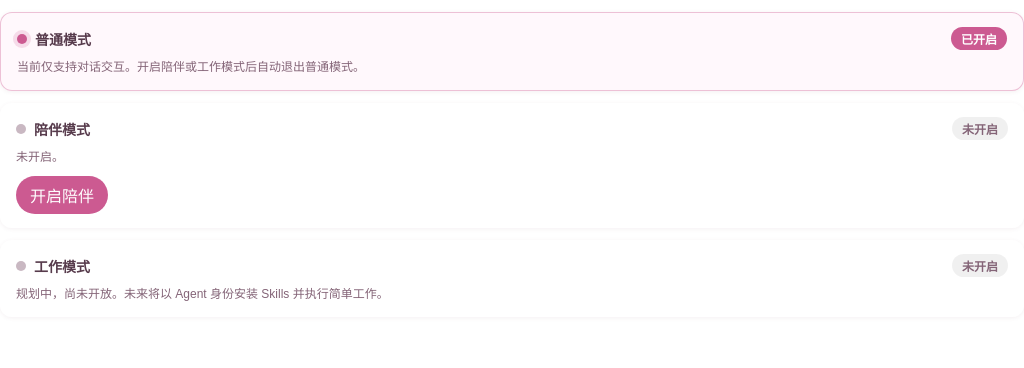
Test: ModeStatus › shows the block reason when enabling is denied
Click the button "开启陪伴".
click(62, 195)  # box [16,176,108,214]
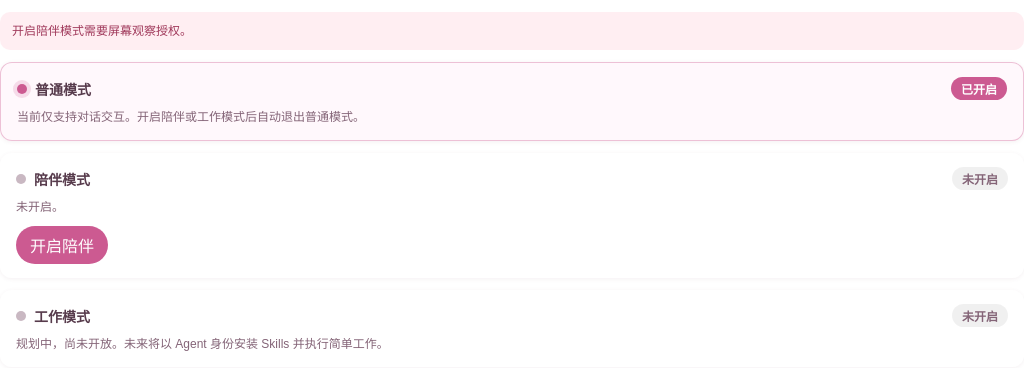
Check: the message shows "需要屏幕观察授权", box [12,24,192,38]
